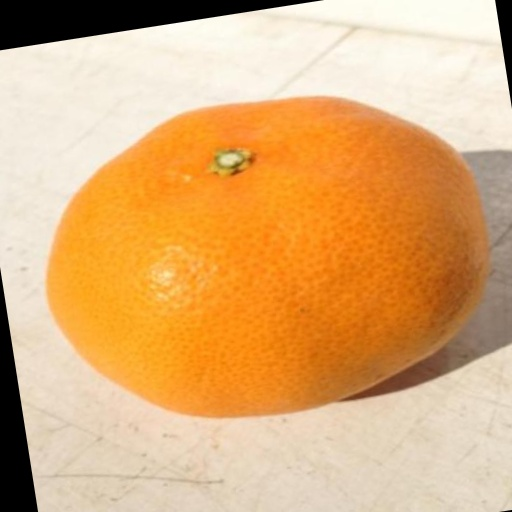fruit: (47, 97, 488, 416)
